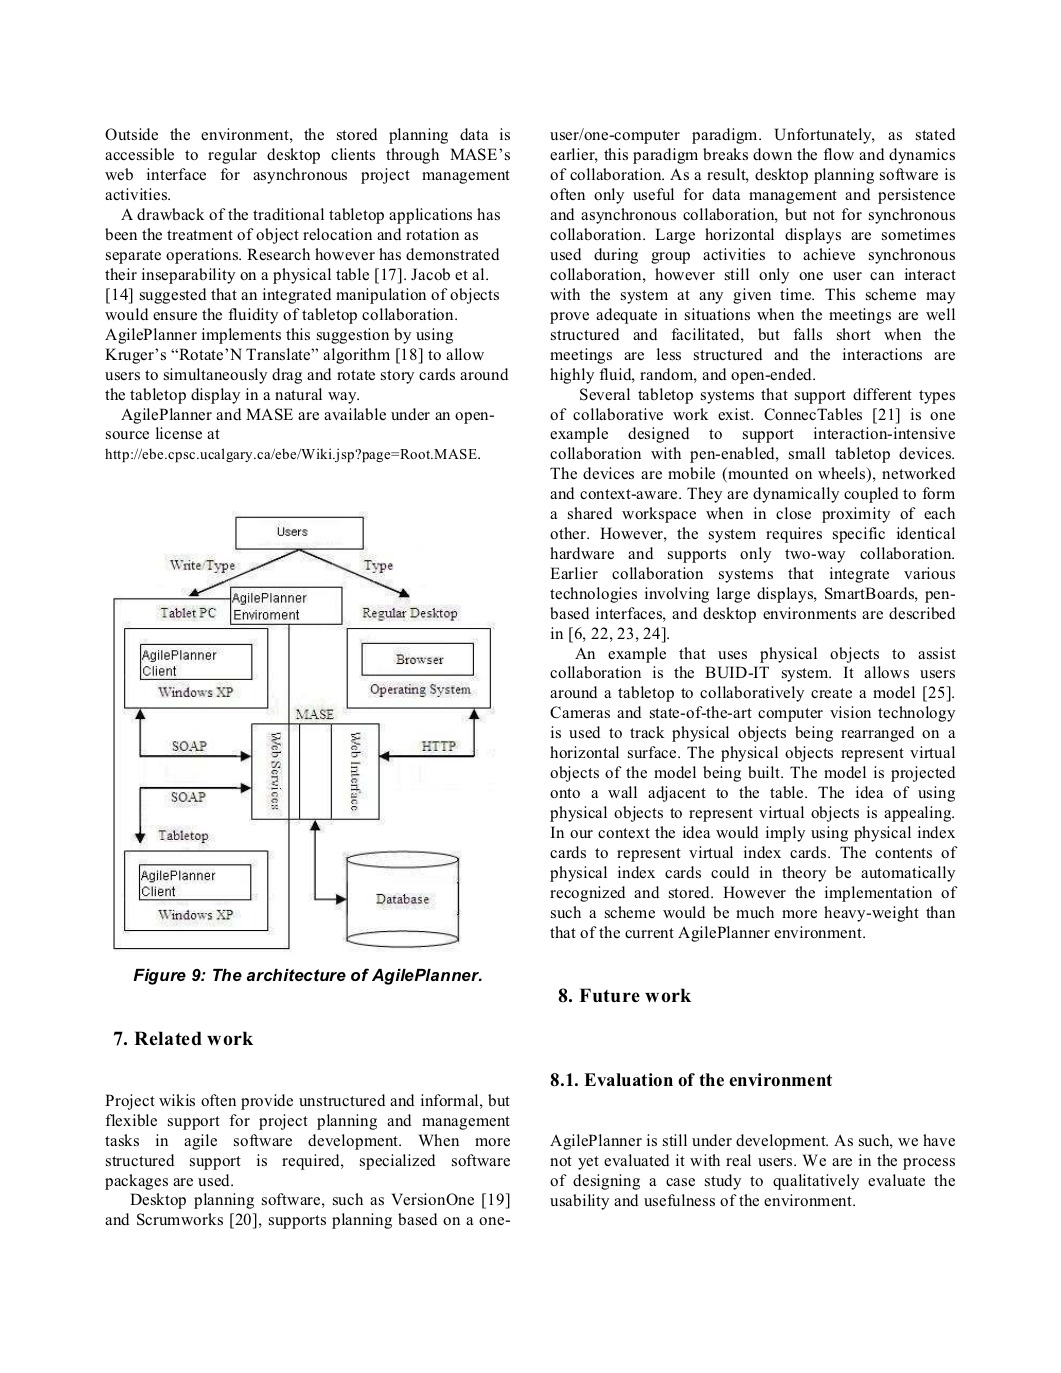figure: (113, 510, 494, 952)
